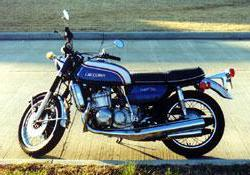motorcycle: (15, 11, 242, 164)
